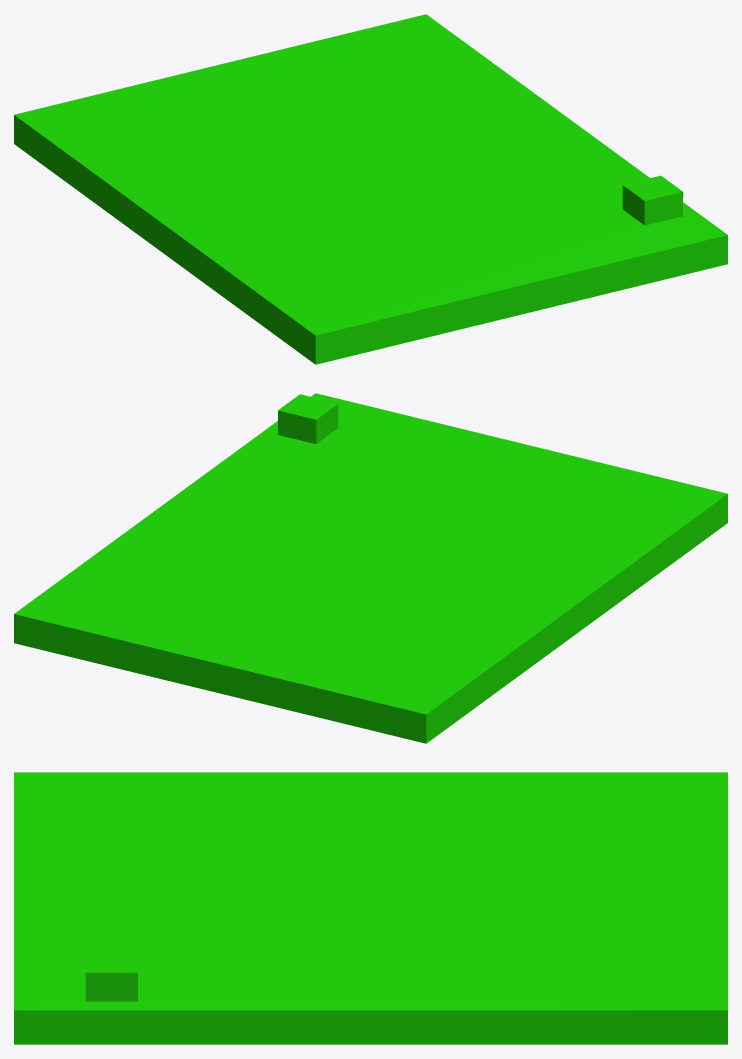
File: SM_Shelf_06_Door_01_Collider.fbx
The picture shows the model from 3 angles, top to bottom: view 1: azimuth 30°, elevation 25°; view 2: azimuth 150°, elevation 25°; view 3: azimuth 270°, elevation 25°; orthographic projection. The views are drawn at different scales.
Parts seen in each view (by area): view 1: SM_Shelf_06_Door_01_Collider; view 2: SM_Shelf_06_Door_01_Collider; view 3: SM_Shelf_06_Door_01_Collider.
Part boxes in pixels (box(x1,y1,x2,y2)): SM_Shelf_06_Door_01_Collider: box(14, 14, 727, 364); SM_Shelf_06_Door_01_Collider: box(14, 393, 727, 743); SM_Shelf_06_Door_01_Collider: box(14, 772, 727, 1044).
Bounding box in the file's own units: 66.69 × 8.32 × 84.52.
